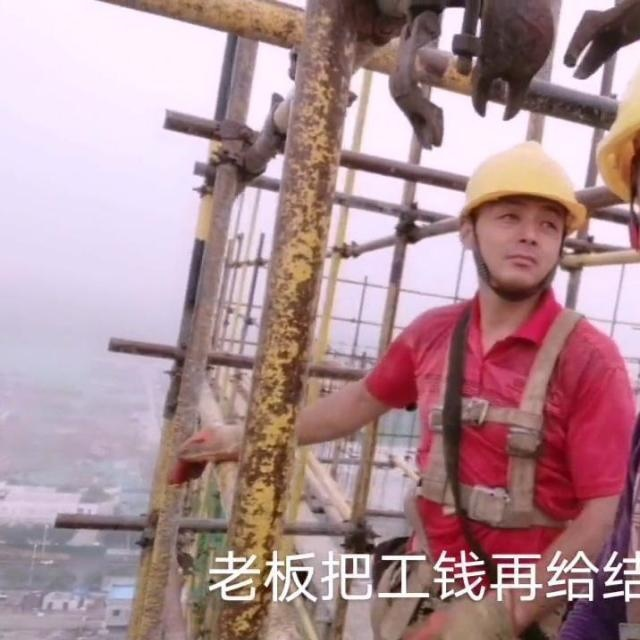Arnes_seguridad: (404, 286, 609, 534)
